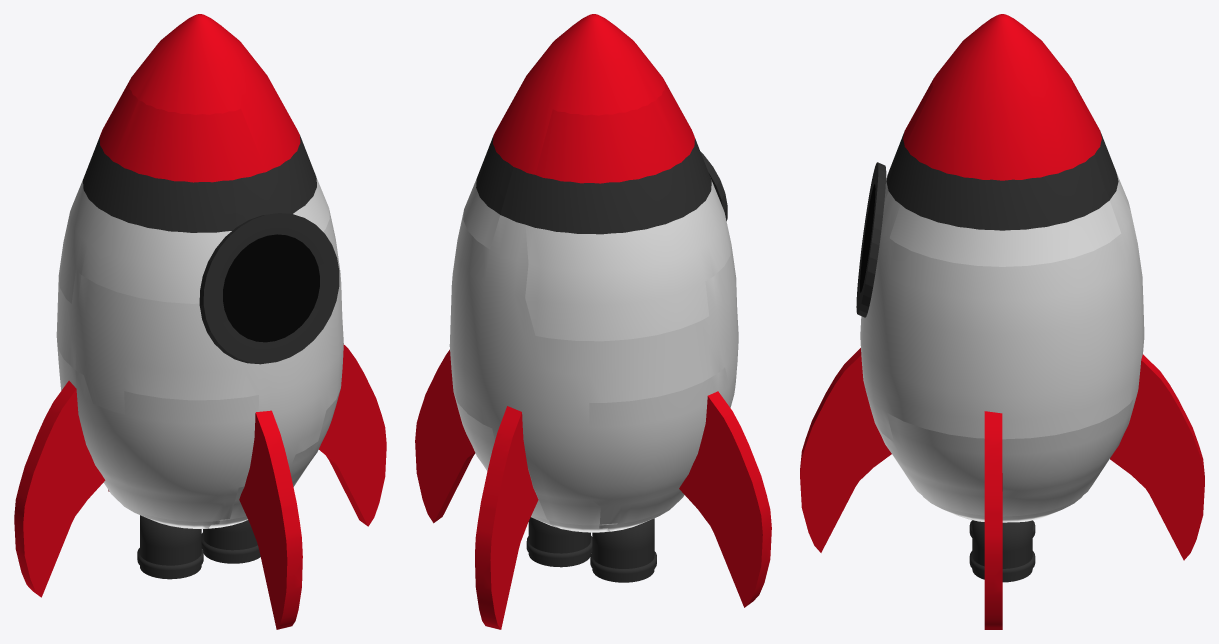
File: explosion.glb
3 renders of one model, left to right at view 1: azimuth 30°, elevation 25°; view 2: azimuth 150°, elevation 25°; view 3: azimuth 270°, elevation 25°, orthographic.
Visible parts, largest first — view 1: rocket.002, rocket, rocket.004, rocket.001, window, wing2, wing2.001, wing1, window.001, engine, engine2, rocket.003; view 2: rocket.002, rocket, rocket.001, rocket.004, wing2, wing1.001, wing1, engine, engine2, rocket.003; view 3: rocket, rocket.001, rocket.003, wing1.001, wing2.001, wing1, engine2, window, rocket.002.
Part boxes in pixels (bbox=[...]): rocket.002: bbox=[58, 78, 266, 303]; rocket: bbox=[56, 208, 343, 528]; rocket.004: bbox=[57, 342, 258, 528]; rocket.001: bbox=[129, 14, 329, 231]; window: bbox=[225, 213, 339, 363]; wing2: bbox=[14, 380, 105, 597]; wing2.001: bbox=[239, 410, 302, 629]; wing1: bbox=[319, 344, 386, 526]; window.001: bbox=[199, 215, 267, 364]; engine: bbox=[137, 515, 203, 579]; engine2: bbox=[201, 520, 260, 563]; rocket.003: bbox=[289, 389, 340, 486]; rocket.002: bbox=[500, 79, 731, 341]; rocket: bbox=[449, 210, 738, 532]; rocket.001: bbox=[463, 14, 665, 249]; rocket.004: bbox=[589, 341, 738, 531]; wing2: bbox=[679, 391, 771, 607]; wing1.001: bbox=[475, 406, 538, 629]; wing1: bbox=[415, 349, 475, 523]; engine: bbox=[590, 518, 656, 582]; engine2: bbox=[526, 517, 592, 567]; rocket.003: bbox=[454, 393, 559, 528]; rocket: bbox=[860, 186, 1144, 484]; rocket.001: bbox=[886, 14, 1121, 266]; rocket.003: bbox=[879, 399, 1133, 522]; wing1.001: bbox=[1110, 354, 1204, 560]; wing2.001: bbox=[800, 348, 891, 552]; wing1: bbox=[984, 411, 1002, 629]; engine2: bbox=[969, 520, 1035, 582]; window: bbox=[856, 168, 886, 317]; rocket.002: bbox=[884, 79, 1130, 211].
Bounding box in the file's own units: 2.05 × 3 × 2.05.
